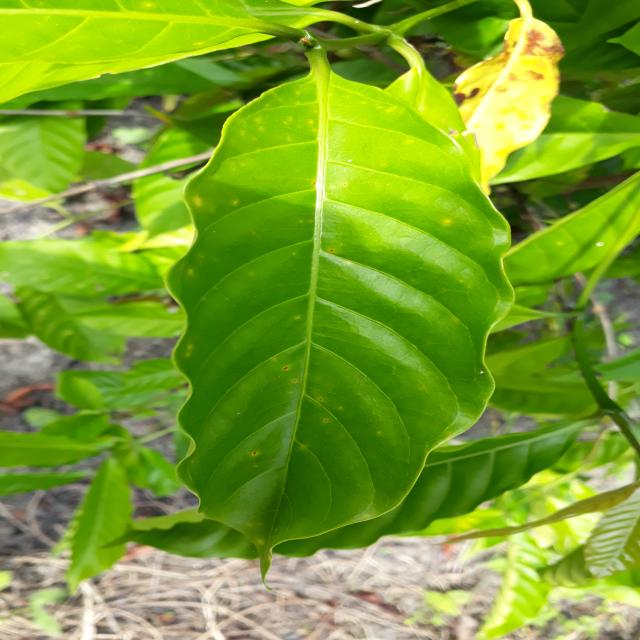Enfermedad-Roya: (154, 52, 515, 566)
